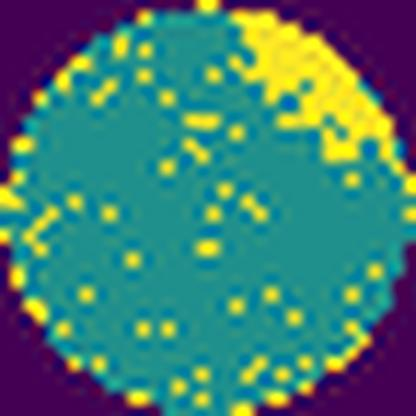Edge-Loc: (219, 0, 415, 196)
